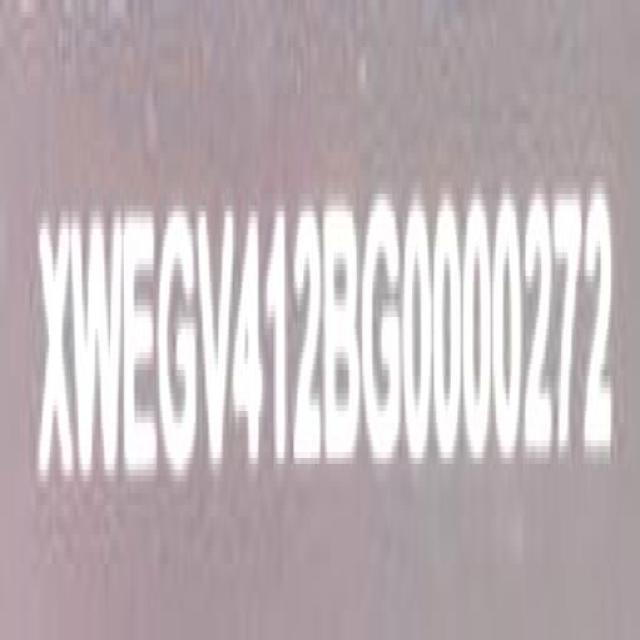0: (403, 184, 435, 472), (432, 185, 463, 470), (463, 186, 493, 470), (494, 188, 524, 469)
1: (267, 193, 291, 480)
2: (586, 178, 618, 468), (523, 184, 555, 466), (294, 196, 326, 476)
4: (231, 199, 264, 486)
7: (552, 179, 583, 467)
B: (324, 188, 362, 476)
E: (124, 204, 161, 490)
G: (158, 204, 200, 490), (361, 190, 401, 480)
V: (197, 200, 232, 476)
W: (74, 202, 125, 496)
X: (34, 206, 75, 498)
